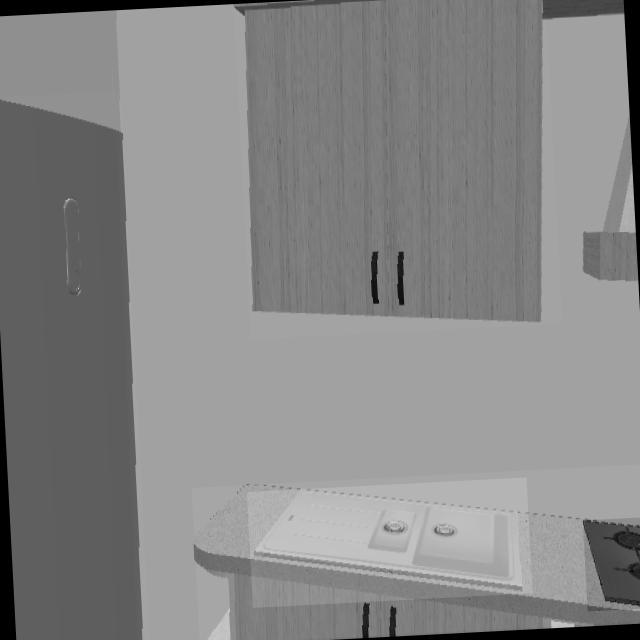cabinet: (233, 0, 545, 325)
countertop: (194, 485, 640, 625)
fridge: (0, 101, 143, 640)
sink: (251, 491, 529, 595)
stove: (584, 521, 640, 609)
